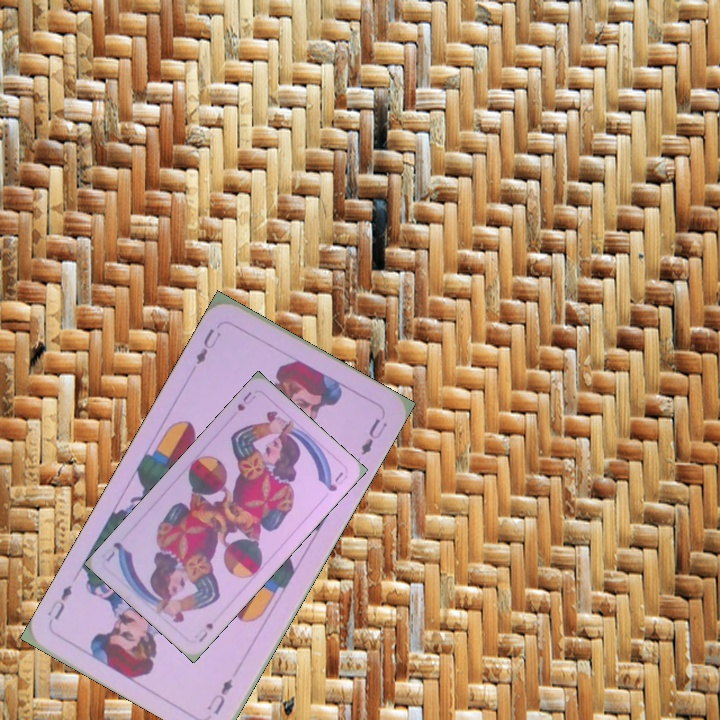EU: (192, 324, 224, 368), (203, 675, 235, 718)
SU: (233, 387, 259, 414), (194, 619, 216, 645)
